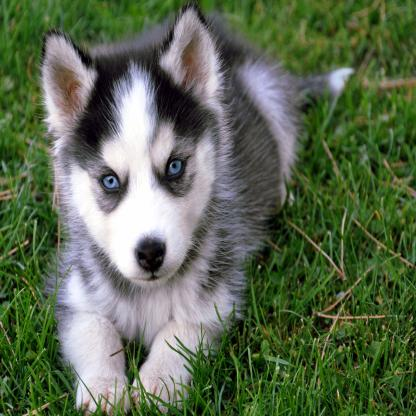husky: (36, 5, 348, 416)
